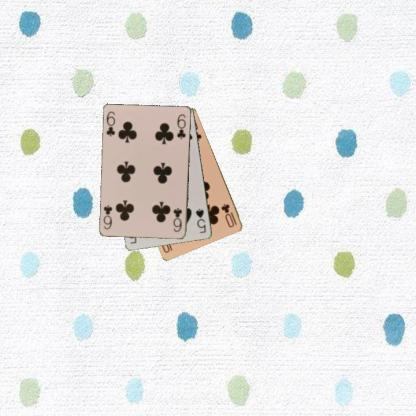10c: (219, 201, 238, 229)
5s: (193, 206, 207, 235)
6c: (104, 109, 117, 138), (171, 205, 183, 234)
